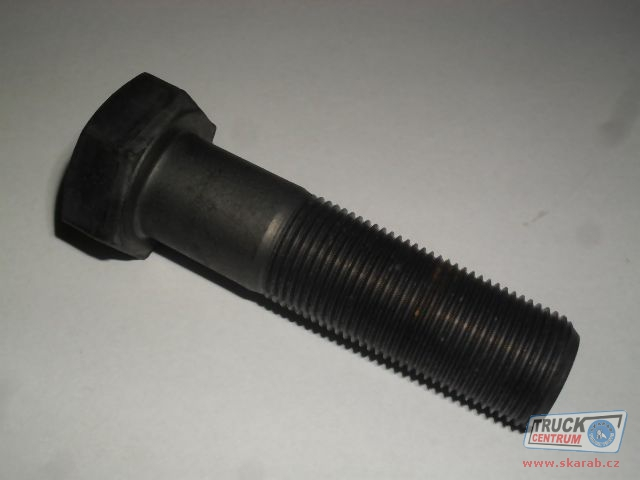screw: (57, 70, 582, 435)
